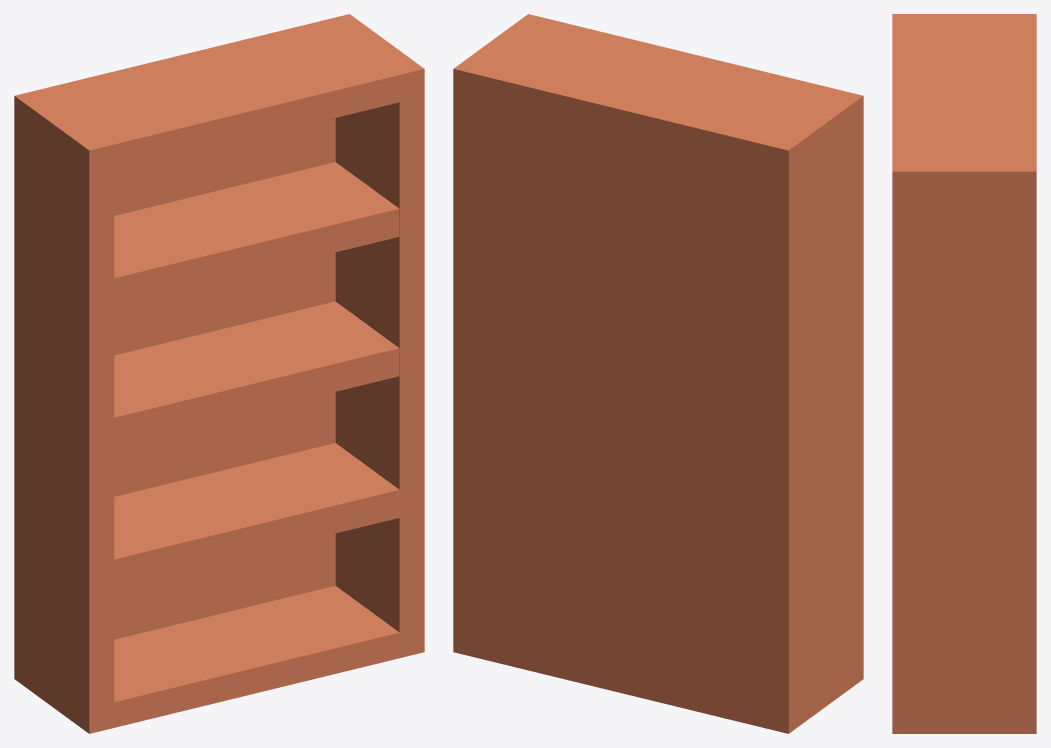
The model's file is closet base.fbx.
3 renders of one model, left to right at view 1: azimuth 30°, elevation 25°; view 2: azimuth 150°, elevation 25°; view 3: azimuth 270°, elevation 25°, orthographic. The views are drawn at different scales.
Visible parts, largest first — view 1: base.001; view 2: base.001; view 3: base.001.
Part boxes in pixels (<box>): base.001: <box>14,14,424,733</box>; base.001: <box>453,14,863,733</box>; base.001: <box>892,14,1036,733</box>.
Bounding box in the file's own units: 457 × 759 × 177.
